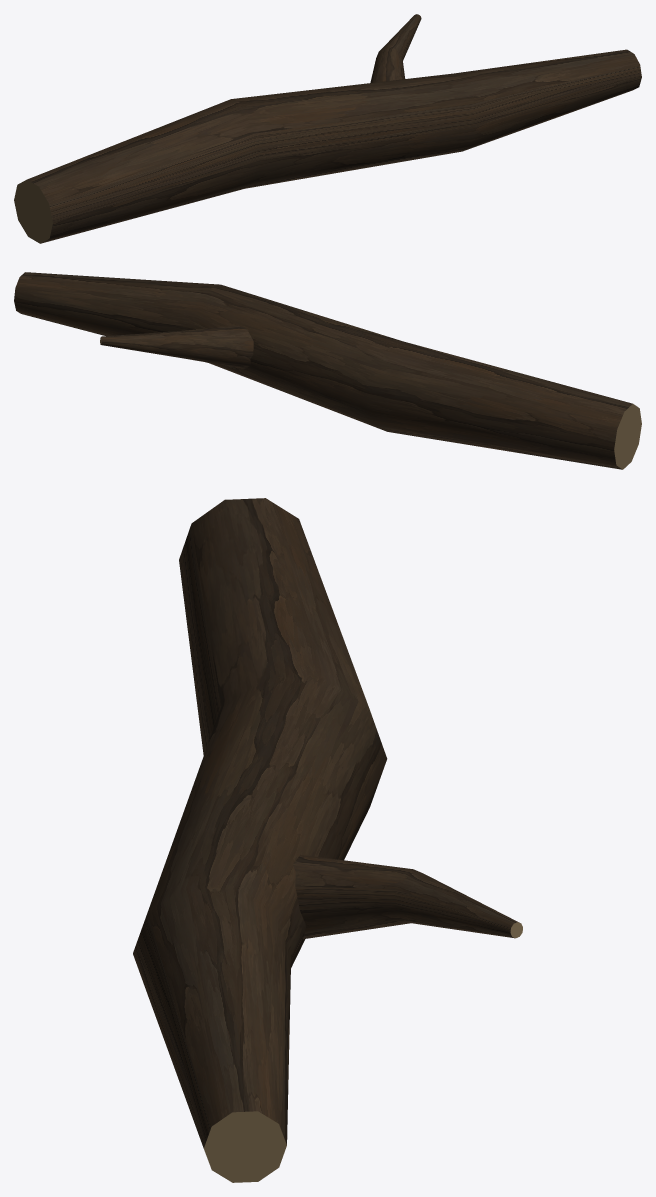
3 views of the same model, one above another, from view 1: azimuth 30°, elevation 25°; view 2: azimuth 150°, elevation 25°; view 3: azimuth 270°, elevation 25° (orthographic). The views are drawn at different scales.
Parts seen in each view (by area): view 1: Bark branch; view 2: Bark branch; view 3: Bark branch.
Part boxes in pixels (x1,y1,x2,y2): Bark branch: [14, 14, 641, 243]; Bark branch: [14, 272, 641, 469]; Bark branch: [133, 498, 522, 1182].
Size of the model in its own units: 3.32 by 0.4186 by 0.935.
Materials: 2 (1 with a texture image).
